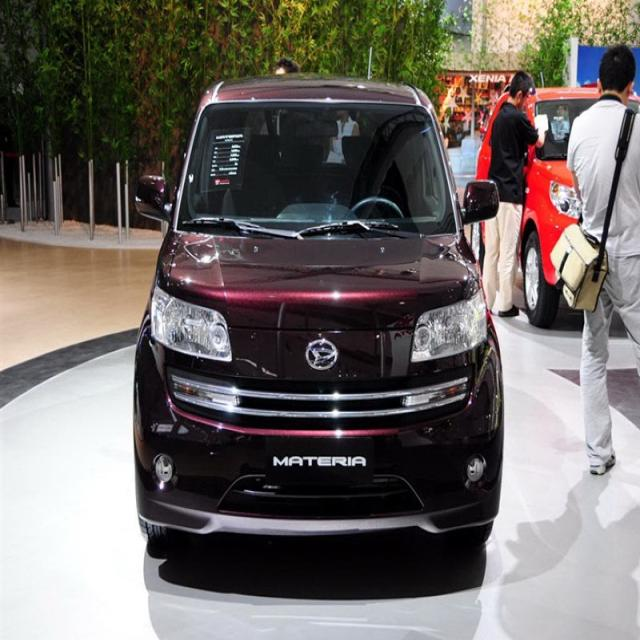front_bumper: (131, 444, 505, 540)
front_glass: (175, 98, 460, 236)
front_left_side_light: (409, 288, 488, 363)
front_left_side_mirror: (461, 179, 501, 227)
front_right_side_light: (149, 284, 233, 364)
front_right_side_mirror: (134, 175, 173, 226)
